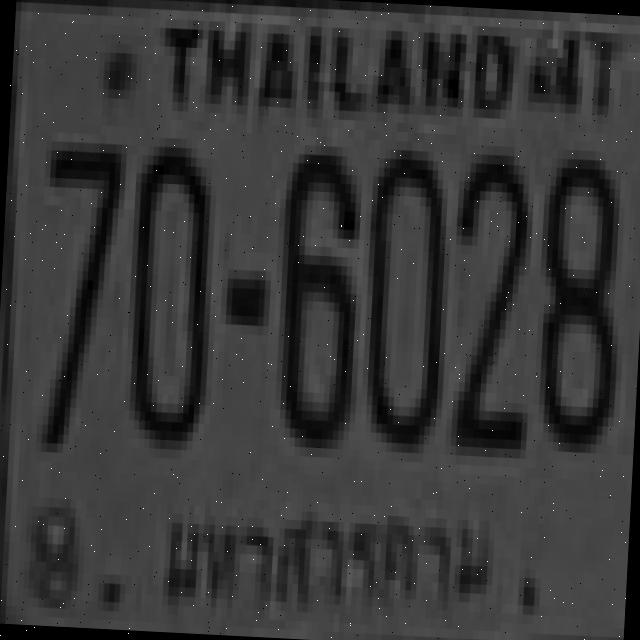0: (122, 136, 214, 442), (357, 140, 448, 445)
2: (446, 144, 536, 450)
6: (270, 144, 362, 440)
7: (31, 131, 123, 446)
8: (532, 149, 622, 445)
MahaSarakham: (139, 468, 518, 636)
